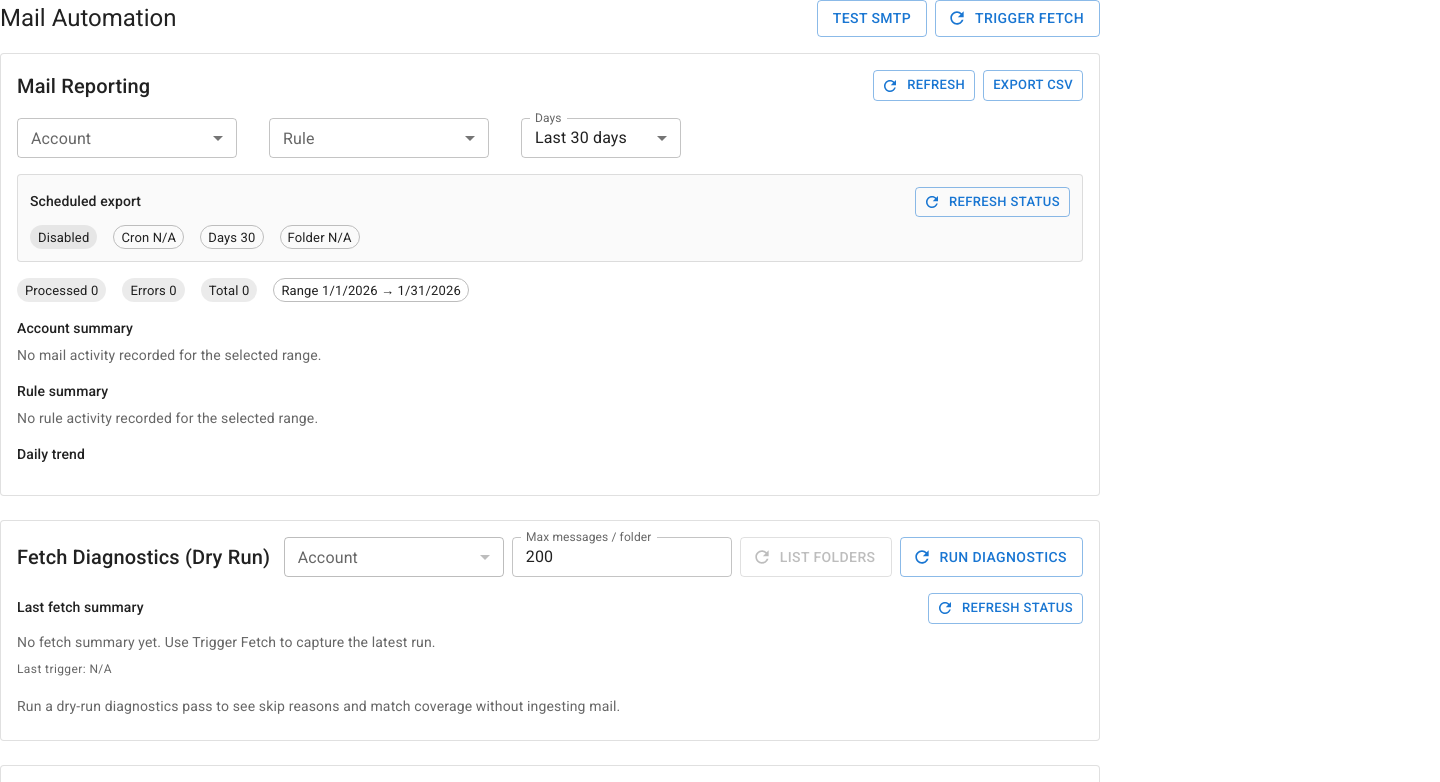
Test case: MailAutomationPage Test SMTP dialog › opens dialog with Send test disabled until a recipient containing @ is entered
Click the button "Test SMTP" at x=872, y=18, box [817,0,927,36]
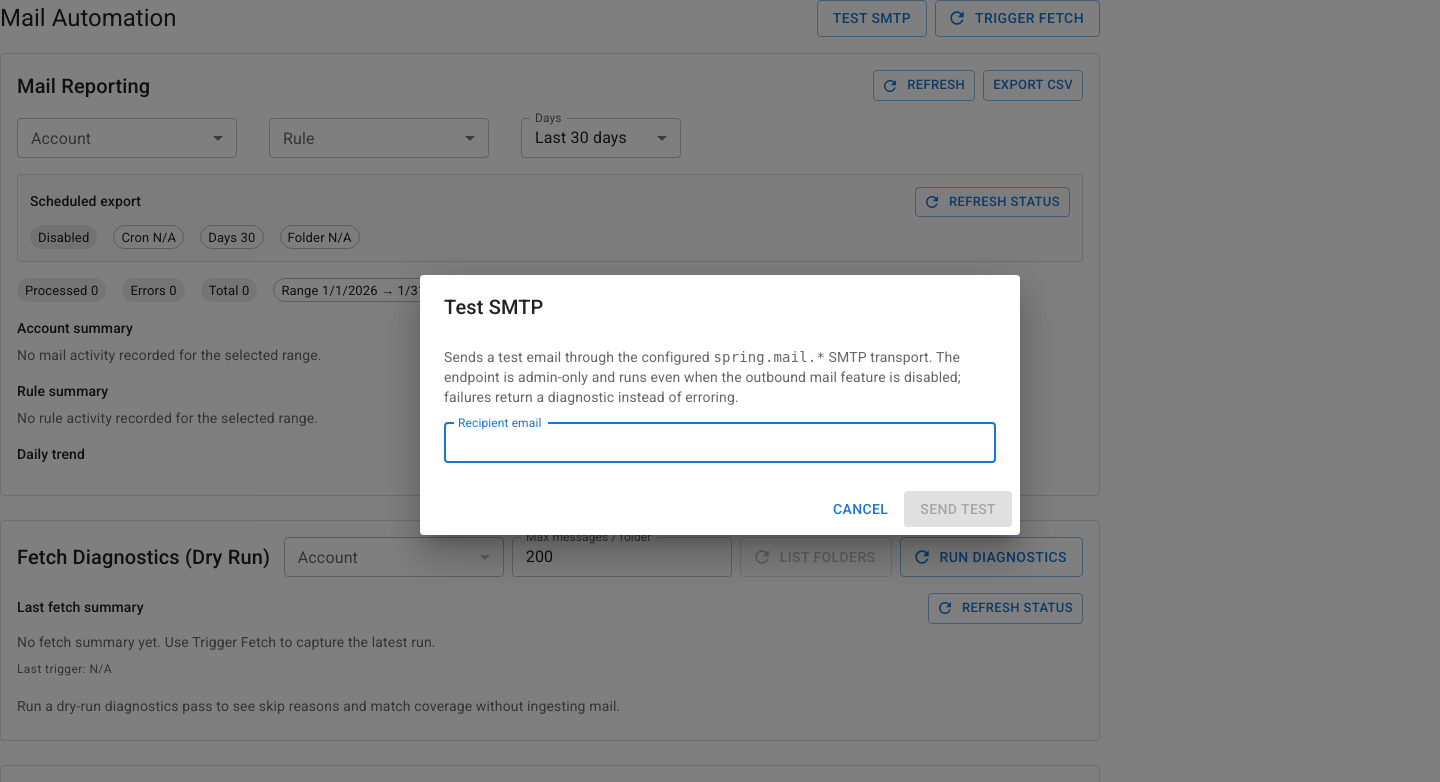
Expected: the button "Send test" is disabled, [904,491,1012,527]
Type "not-an-email" into the field labelled "Recipient email" at x=720, y=443, box [444,423,996,463]
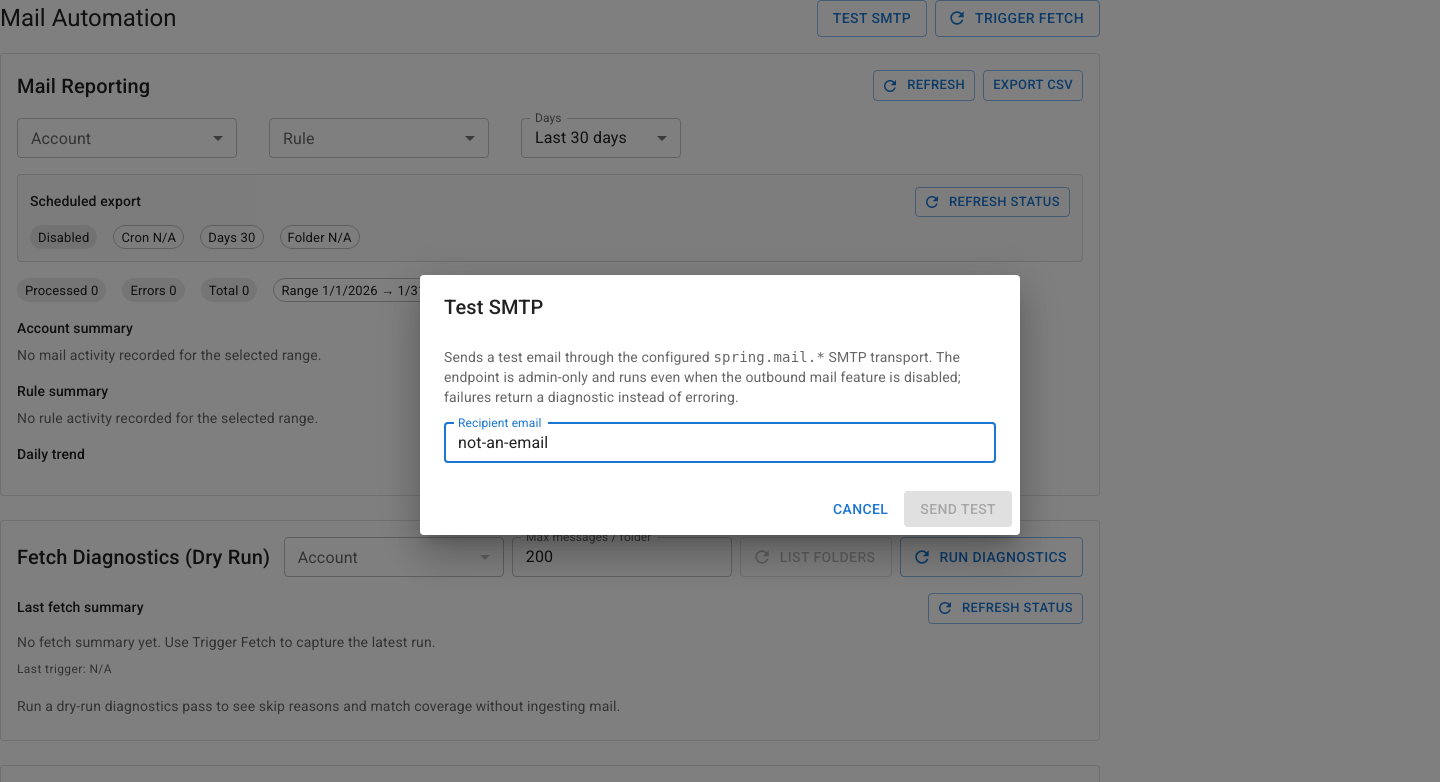
Expected: the button "Send test" is disabled, [904,491,1012,527]
Replace the text in the field labelled "Recipient email" with "operator@example.com" at x=720, y=443, box [444,423,996,463]
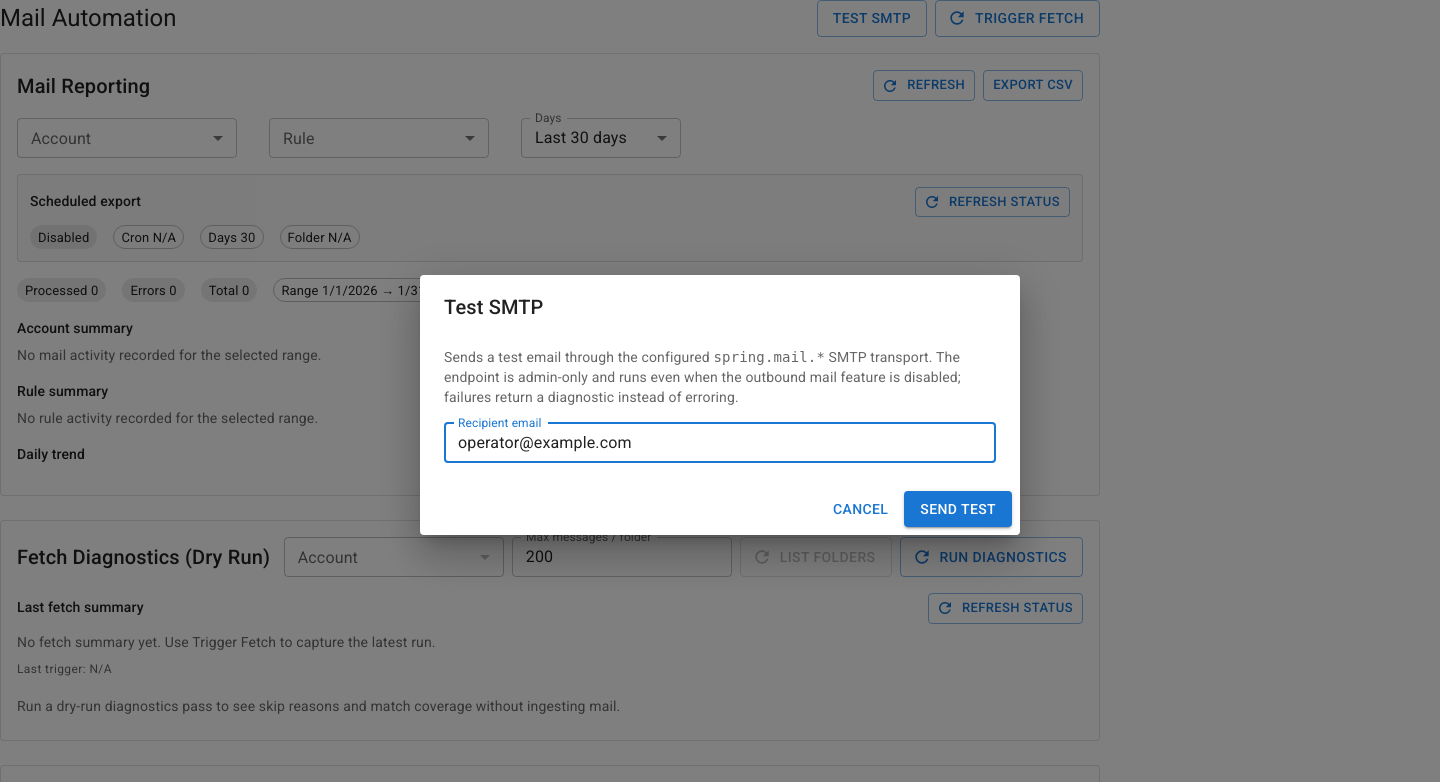
Expected: the button "Send test" is enabled, [904,491,1012,527]
